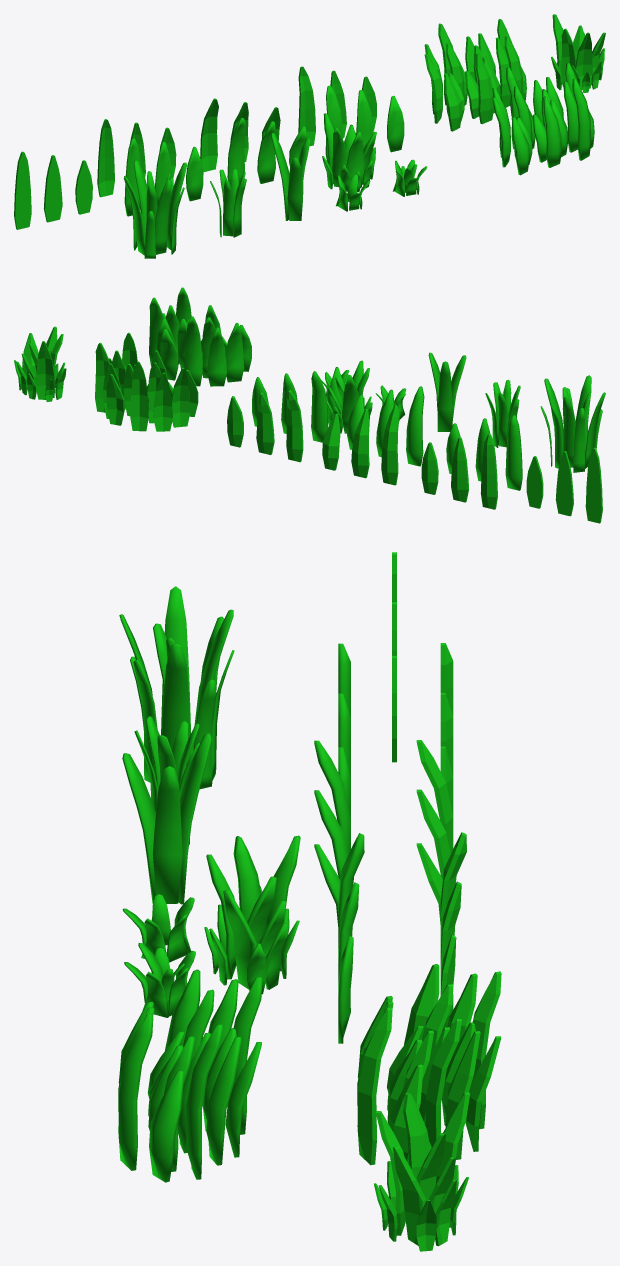
Rendered from GrassPrefabs.fbx.
The picture shows the model from 3 angles, top to bottom: view 1: azimuth 30°, elevation 25°; view 2: azimuth 150°, elevation 25°; view 3: azimuth 270°, elevation 25°; orthographic projection. The views are drawn at different scales.
Visible parts, largest first — view 1: low_poly_grass_1.021, low_poly_grass_1.023, low_poly_grass_1, low_poly_grass_1.024, low_poly_grass_1.025, grass.013, grass.012, low_poly_grass_1.001, low_poly_grass_1.004, low_poly_grass_1.007, low_poly_grass_1.010, low_poly_grass_1.003 (+17 smaller); view 2: low_poly_grass_1.023, low_poly_grass_1.021, low_poly_grass_1, low_poly_grass_1.025, low_poly_grass_1.024, grass.013, grass.012, low_poly_grass_1.016, low_poly_grass_1.007, low_poly_grass_1.013, low_poly_grass_1.001, low_poly_grass_1.004 (+17 smaller); view 3: low_poly_grass_1.021, low_poly_grass_1.023, low_poly_grass_1.025, low_poly_grass_1.024, low_poly_grass_1, grass.013, grass.001, grass.012, grass.014, low_poly_grass_1.007, low_poly_grass_1.016, low_poly_grass_1.022 (+4 smaller).
Part boxes in pixels (x1=…): low_poly_grass_1.021: x1=492, y1=62, x2=594, y2=175; low_poly_grass_1.023: x1=424, y1=19, x2=526, y2=131; low_poly_grass_1: x1=123, y1=160, x2=187, y2=258; low_poly_grass_1.024: x1=322, y1=113, x2=376, y2=191; low_poly_grass_1.025: x1=551, y1=14, x2=605, y2=92; grass.013: x1=271, y1=133, x2=310, y2=220; grass.012: x1=210, y1=169, x2=246, y2=237; low_poly_grass_1.001: x1=14, y1=151, x2=31, y2=229; low_poly_grass_1.004: x1=97, y1=119, x2=114, y2=197; low_poly_grass_1.007: x1=200, y1=98, x2=218, y2=172; low_poly_grass_1.010: x1=298, y1=66, x2=315, y2=146; low_poly_grass_1.003: x1=43, y1=155, x2=62, y2=222; low_poly_grass_1.023: x1=95, y1=332, x2=198, y2=431; low_poly_grass_1.021: x1=149, y1=287, x2=251, y2=386; low_poly_grass_1: x1=540, y1=375, x2=605, y2=472; low_poly_grass_1.025: x1=14, y1=326, x2=66, y2=401; low_poly_grass_1.024: x1=326, y1=360, x2=372, y2=433; grass.013: x1=428, y1=352, x2=466, y2=431; grass.012: x1=485, y1=379, x2=520, y2=447; low_poly_grass_1.016: x1=406, y1=386, x2=424, y2=466; low_poly_grass_1.007: x1=381, y1=405, x2=399, y2=485; low_poly_grass_1.013: x1=505, y1=415, x2=522, y2=490; low_poly_grass_1.001: x1=585, y1=447, x2=602, y2=523; low_poly_grass_1.004: x1=480, y1=434, x2=497, y2=509; low_poly_grass_1.021: x1=118, y1=969, x2=262, y2=1182; low_poly_grass_1.023: x1=357, y1=964, x2=501, y2=1165; low_poly_grass_1.025: x1=374, y1=1092, x2=469, y2=1251; low_poly_grass_1.024: x1=204, y1=835, x2=300, y2=994; low_poly_grass_1: x1=119, y1=586, x2=234, y2=789; grass.013: x1=122, y1=733, x2=211, y2=904; grass.001: x1=124, y1=943, x2=195, y2=1017; grass.012: x1=134, y1=716, x2=199, y2=844; grass.014: x1=122, y1=893, x2=194, y2=962; low_poly_grass_1.007: x1=416, y1=740, x2=453, y2=853; low_poly_grass_1.016: x1=314, y1=740, x2=350, y2=854; low_poly_grass_1.022: x1=338, y1=935, x2=353, y2=1043.
Size of the model in its own units: 633 by 82.33 by 181.
